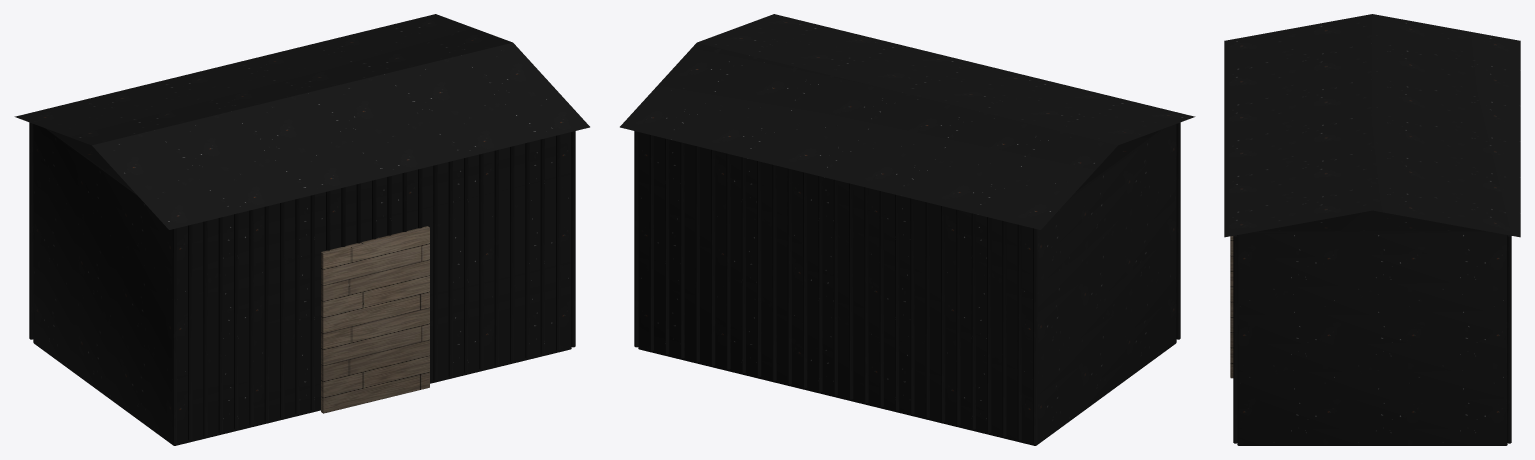
File: cannery.glb
3 renders of one model, left to right at view 1: azimuth 30°, elevation 25°; view 2: azimuth 150°, elevation 25°; view 3: azimuth 270°, elevation 25°, orthographic. The views are drawn at different scales.
Parts seen in each view (by area): view 1: boat_iron, boat_shed; view 2: boat_iron; view 3: boat_iron, boat_shed.
Boxes of the visible parts, x1,y1,x2,y2 form: boat_iron: (14, 14, 589, 445); boat_shed: (321, 226, 429, 413); boat_iron: (620, 14, 1195, 445); boat_iron: (1224, 14, 1520, 445); boat_shed: (1230, 236, 1233, 378).
Size of the model in its own units: 5.5 by 3.15 by 3.5.
Materials: 2 (2 with a texture image).
